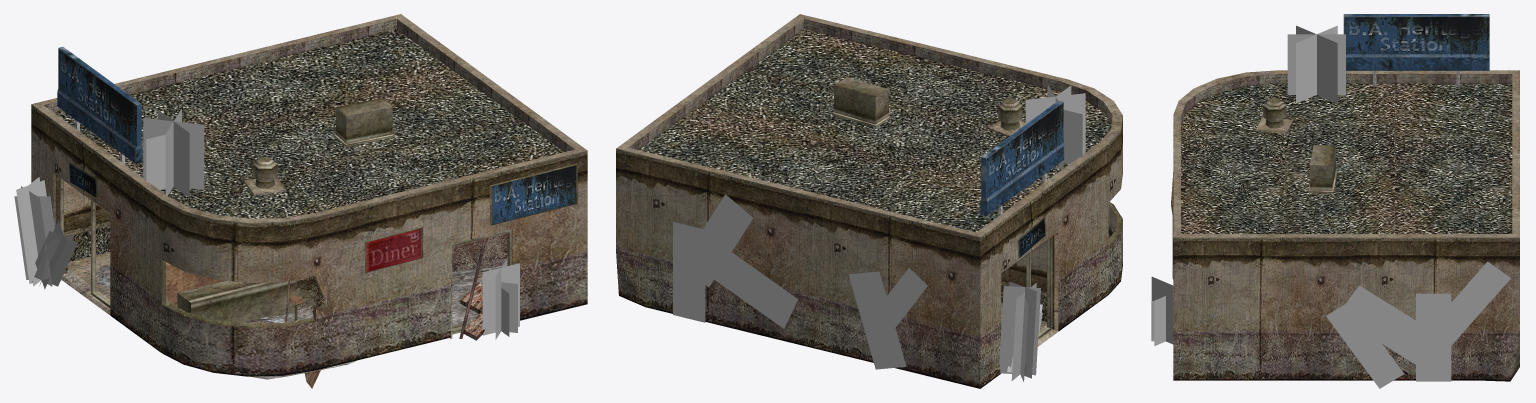
Rendered from BusStation_Building.fbx.
The picture shows the model from 3 angles, left to right: view 1: azimuth 30°, elevation 25°; view 2: azimuth 150°, elevation 25°; view 3: azimuth 270°, elevation 25°; orthographic projection. The views are drawn at different scales.
Visible parts, largest first — view 1: BusStation_Building; view 2: BusStation_Building; view 3: BusStation_Building.
Part boxes in pixels (left/top/right/bottom): BusStation_Building: left=14, top=14, right=587, bottom=388; BusStation_Building: left=616, top=14, right=1122, bottom=388; BusStation_Building: left=1151, top=14, right=1519, bottom=388.
Bounding box in the file's own units: 1112 × 642 × 941.
